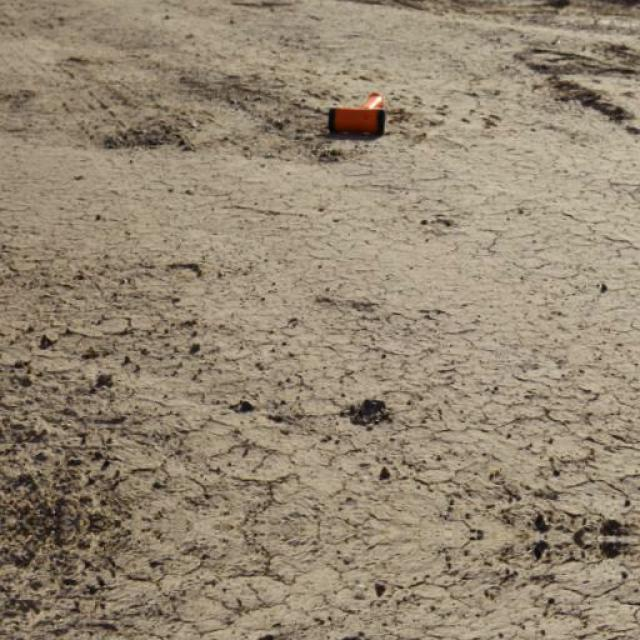mallet: (328, 90, 388, 136)
